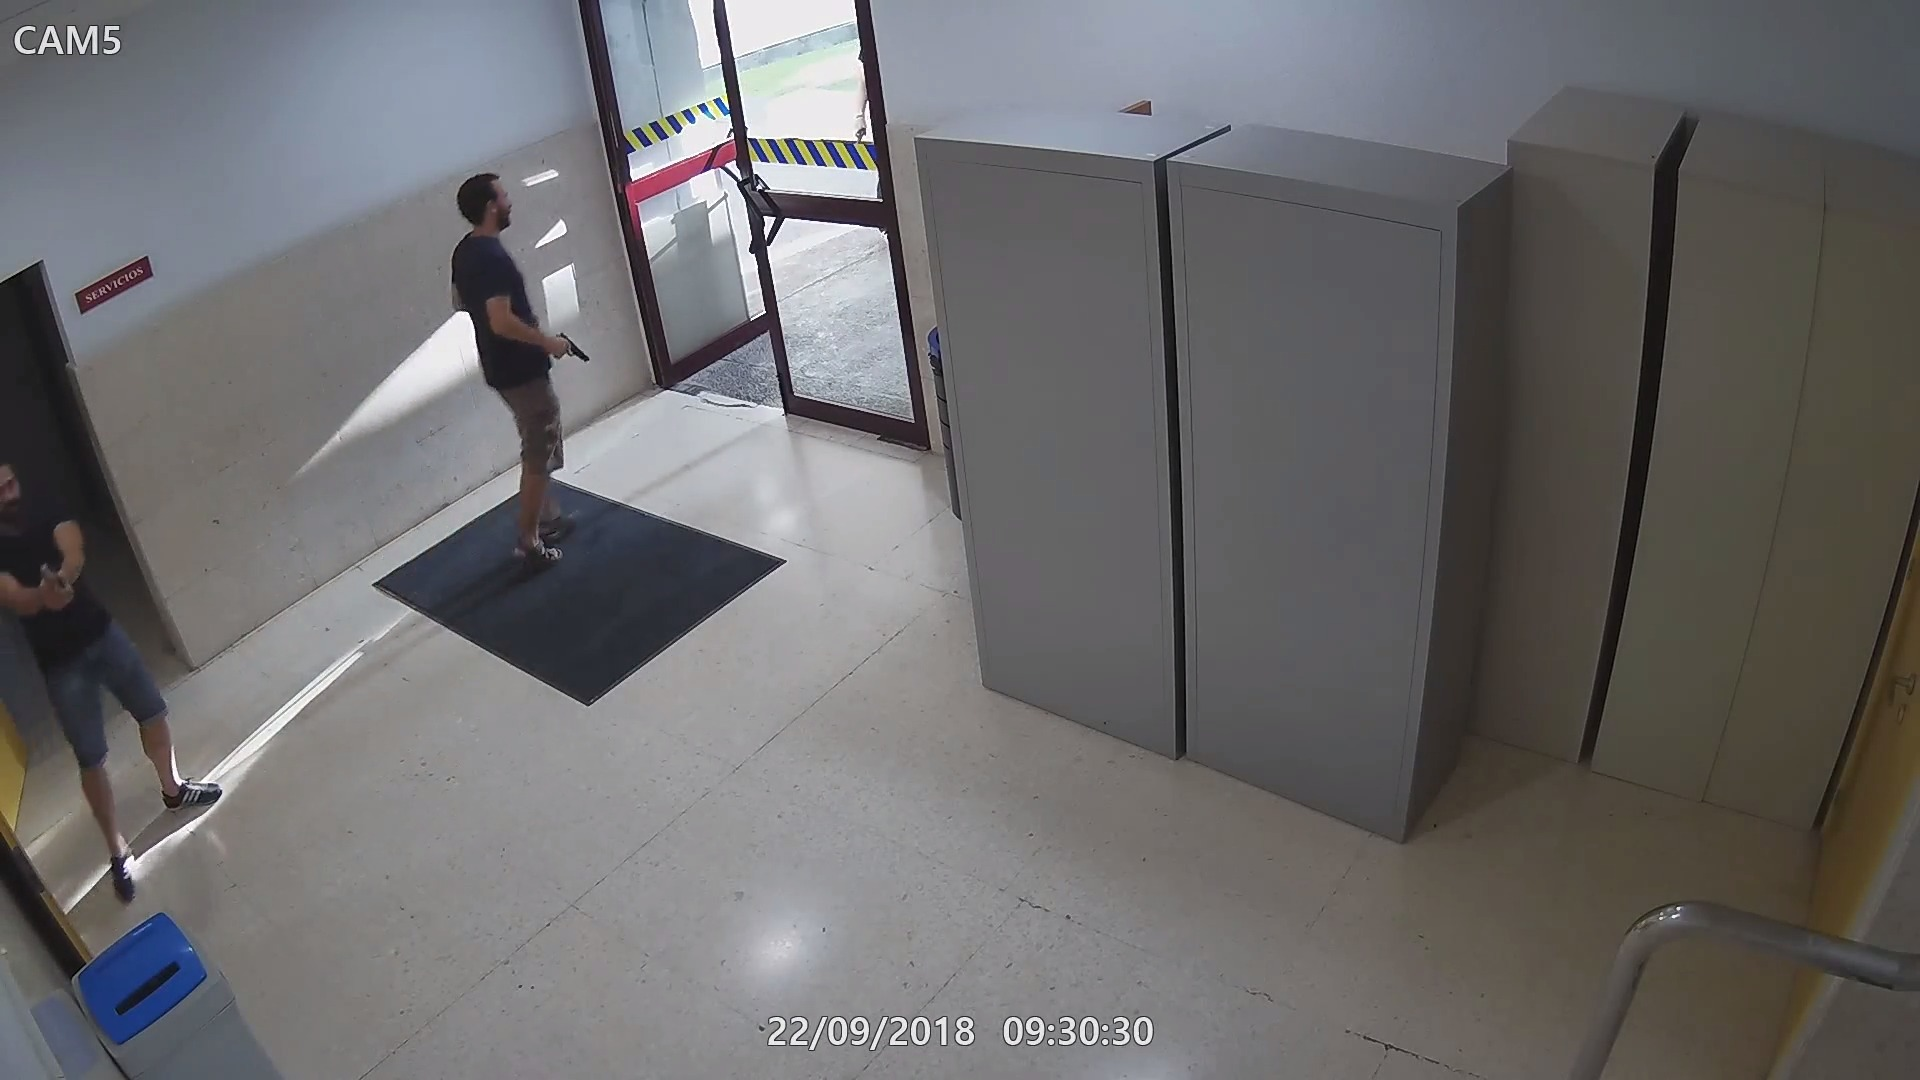Handgun: (37, 556, 73, 611), (547, 330, 587, 364)
